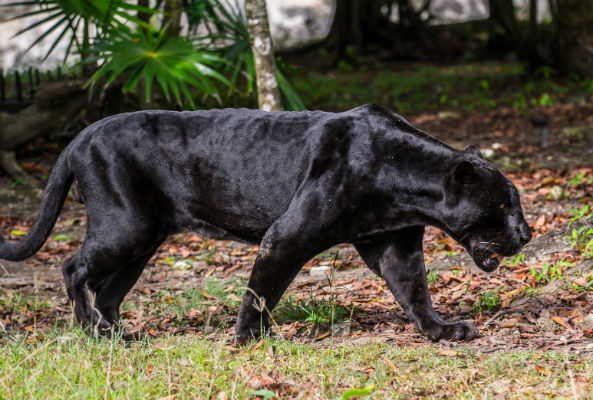panther: (1, 101, 534, 359)
